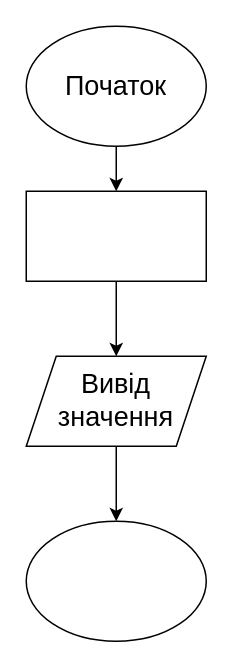
This 233x668 diagram has some shape labels left out. The centre of each missing label's shape, as x and y in pixels:
"Кінець" belongs at (x=115, y=580).
"Підрахунок у" belongs at (x=115, y=235).
